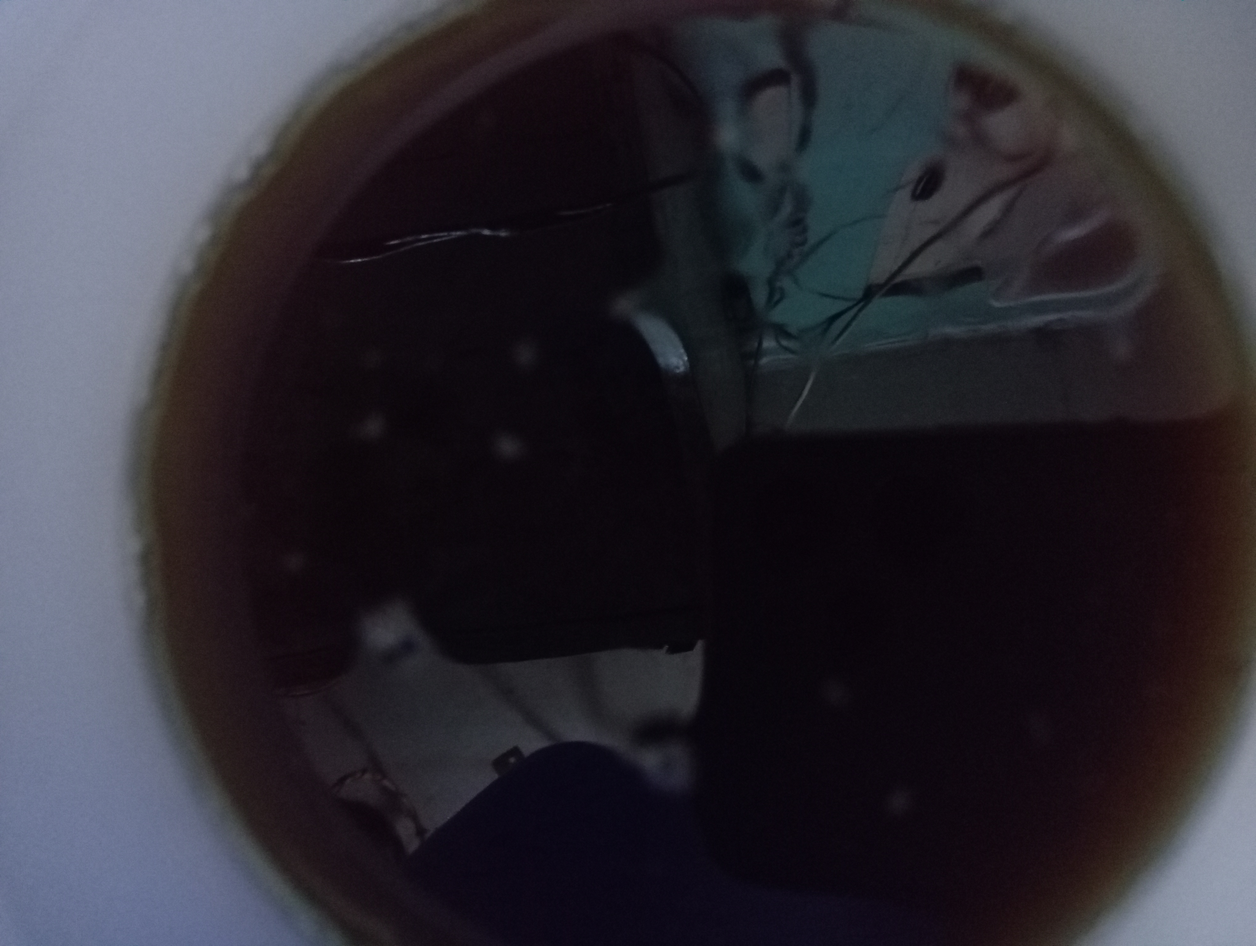non-reusable: (154, 0, 1256, 946)
